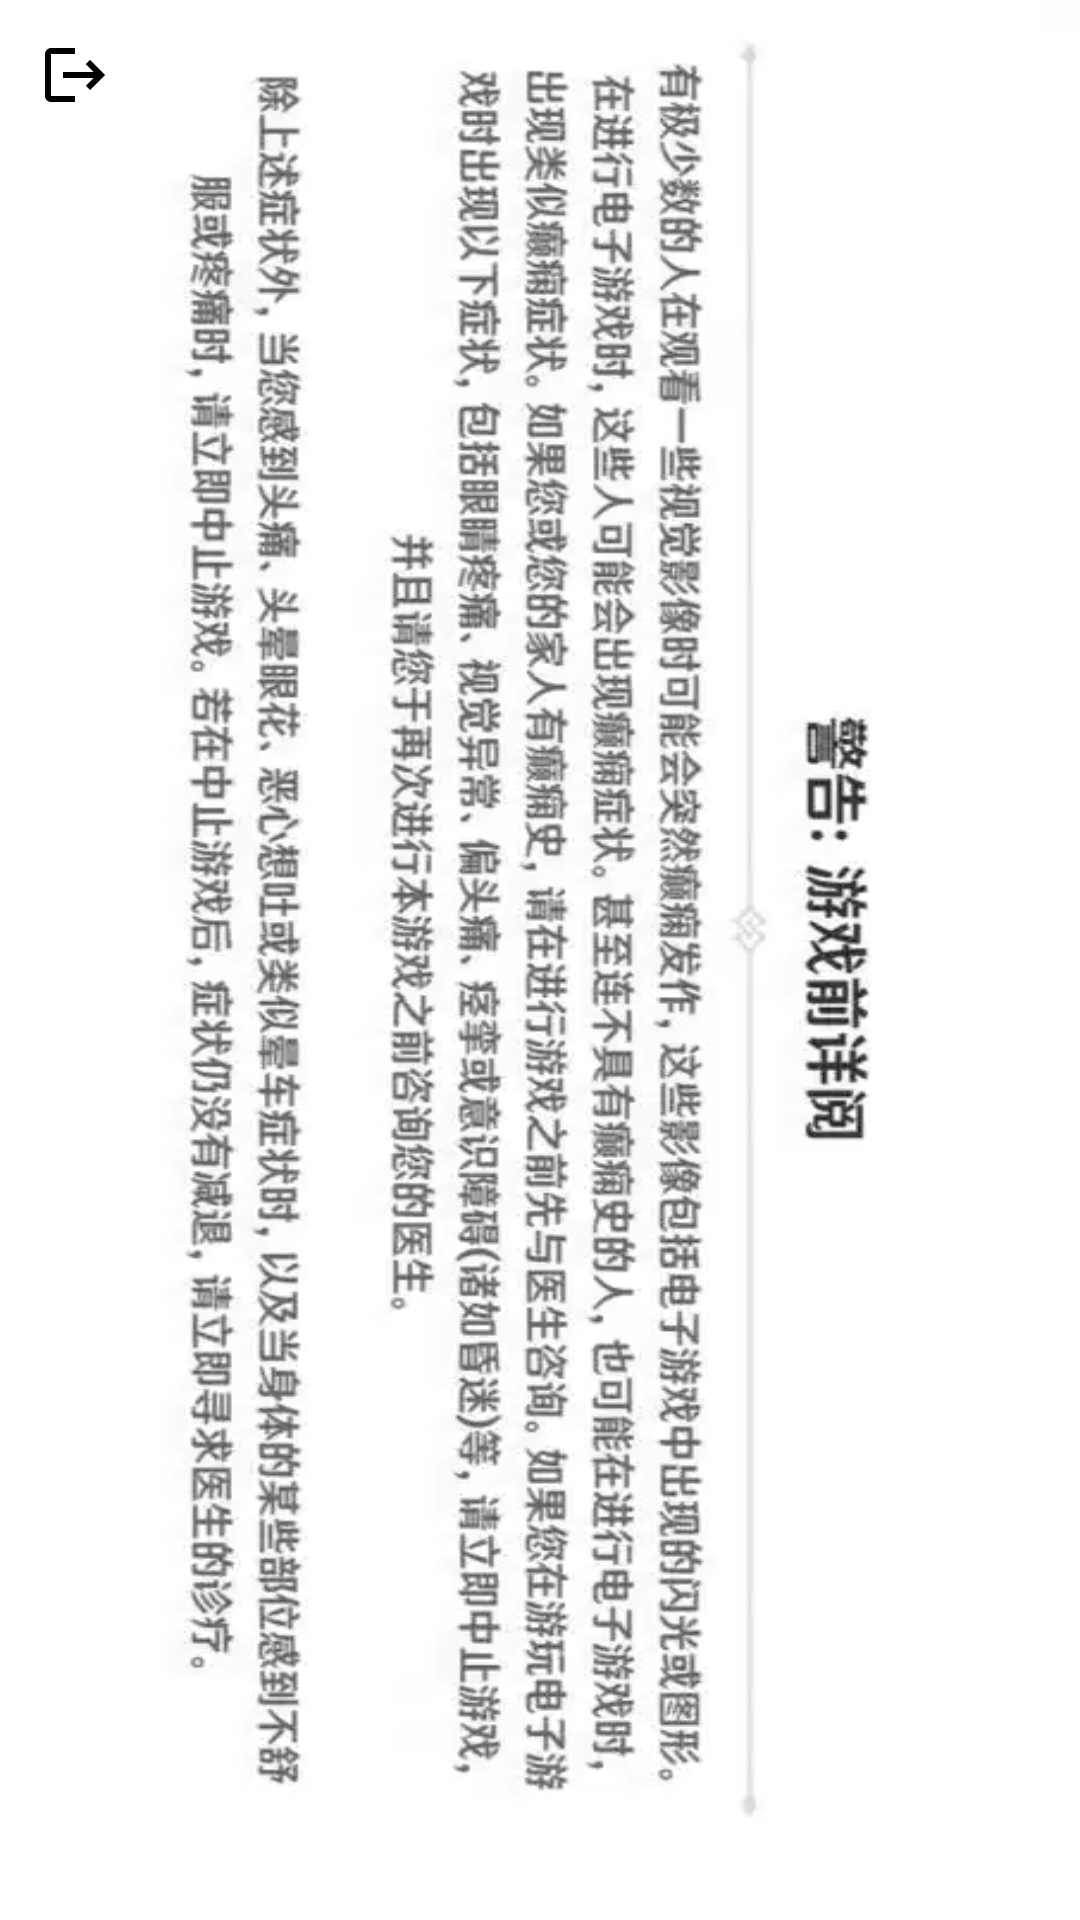

Icons on this 1080 × 1920 Android screen, each with its box as (x1, y1, x2, y2):
quit: (45, 48, 105, 102)
